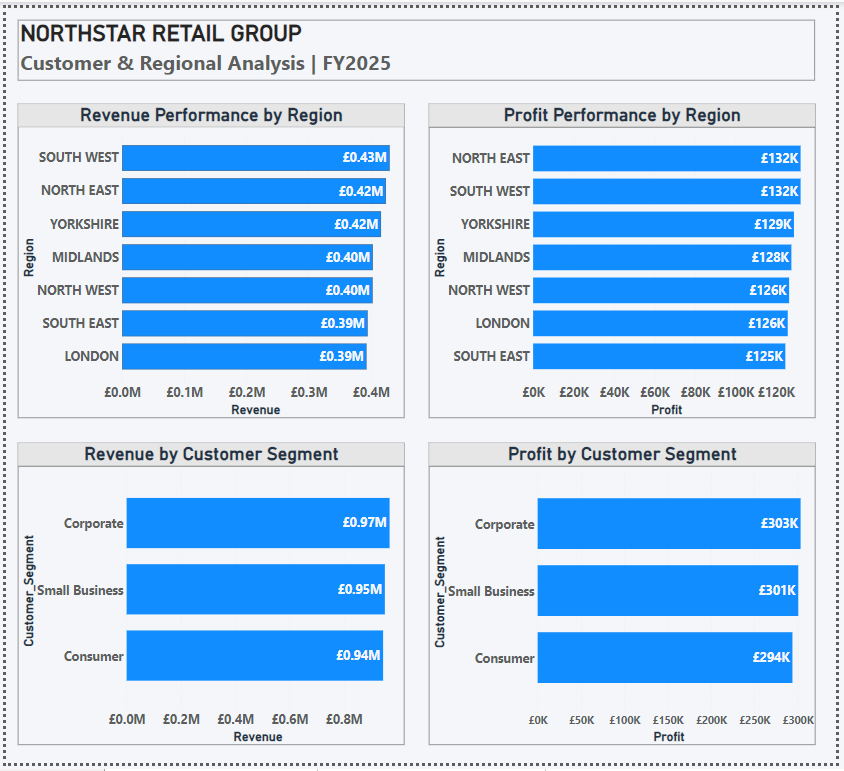

This screenshot's page, from the dashboard's own definition file:
{"tool":"powerbi","page":{"name":"Customer & Regional Analysis","canvas":[2200,2000],"ordinal":2},"visuals":[{"type":"clusteredBarChart","title":"Revenue Performance by Region","fields":{"Category":["sales.region"],"Y":["sales.Total Revenue"]},"box":[32,256,1024,832],"z":0},{"type":"clusteredBarChart","title":"Profit Performance by Region","fields":{"Y":["sales.Total Profit"],"Category":["sales.region"]},"box":[1120,256,1024,832],"z":1000},{"type":"clusteredBarChart","title":"Revenue by Customer Segment","fields":{"Category":["sales.customer_segment"],"Y":["sales.Total Revenue"]},"box":[32,1152,1024,800],"z":2000},{"type":"clusteredBarChart","title":"Profit by Customer Segment","fields":{"Y":["sales.Total Profit"],"Category":["sales.customer_segment"]},"box":[1120,1152,1024,800],"z":3000},{"type":"textbox","title":"NORTHSTAR RETAIL GROUP","box":[32,32,2112,160],"z":7000}]}

Visuals, with their boxes in screenshot pixels (x1, y1, x2, y2), scaled from the page's 2200x2000 canvas onto the 844x771 screenshot:
"Revenue Performance by Region" clusteredBarChart: 12,99,405,419
"Profit Performance by Region" clusteredBarChart: 430,99,823,419
"Revenue by Customer Segment" clusteredBarChart: 12,444,405,752
"Profit by Customer Segment" clusteredBarChart: 430,444,823,752
"NORTHSTAR RETAIL GROUP" textbox: 12,12,823,74
